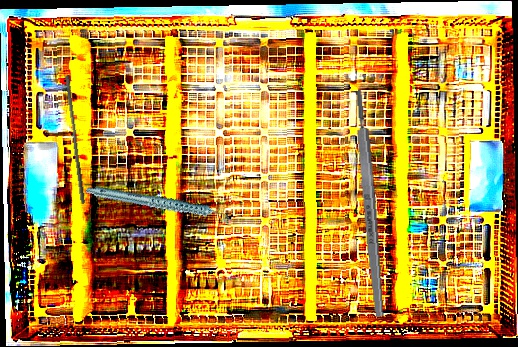Handpiece: (85, 157, 234, 252)
Pusher: (60, 75, 91, 204)
Scalpel Handle: (352, 89, 386, 318)
